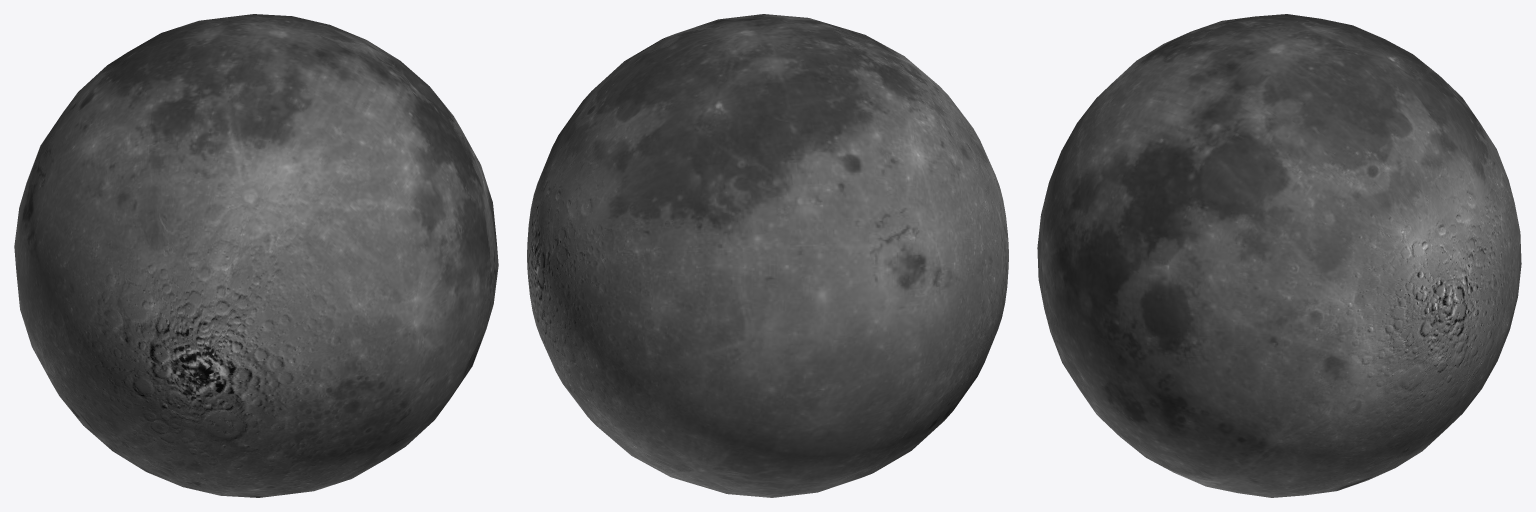
File: neptune.glb
3 views of the same model, side by side, from view 1: azimuth 30°, elevation 25°; view 2: azimuth 150°, elevation 25°; view 3: azimuth 270°, elevation 25° (orthographic).
Visible parts, largest first — view 1: Desert Zone- Fictional Planet; view 2: Desert Zone- Fictional Planet; view 3: Desert Zone- Fictional Planet.
Part boxes in pixels (box(x1,y1,x2,y2)): Desert Zone- Fictional Planet: box(14, 14, 498, 497); Desert Zone- Fictional Planet: box(527, 14, 1008, 497); Desert Zone- Fictional Planet: box(1037, 14, 1521, 497).
Size of the model in its own units: 2 by 1.99 by 2.
Materials: 1 (1 with a texture image).
